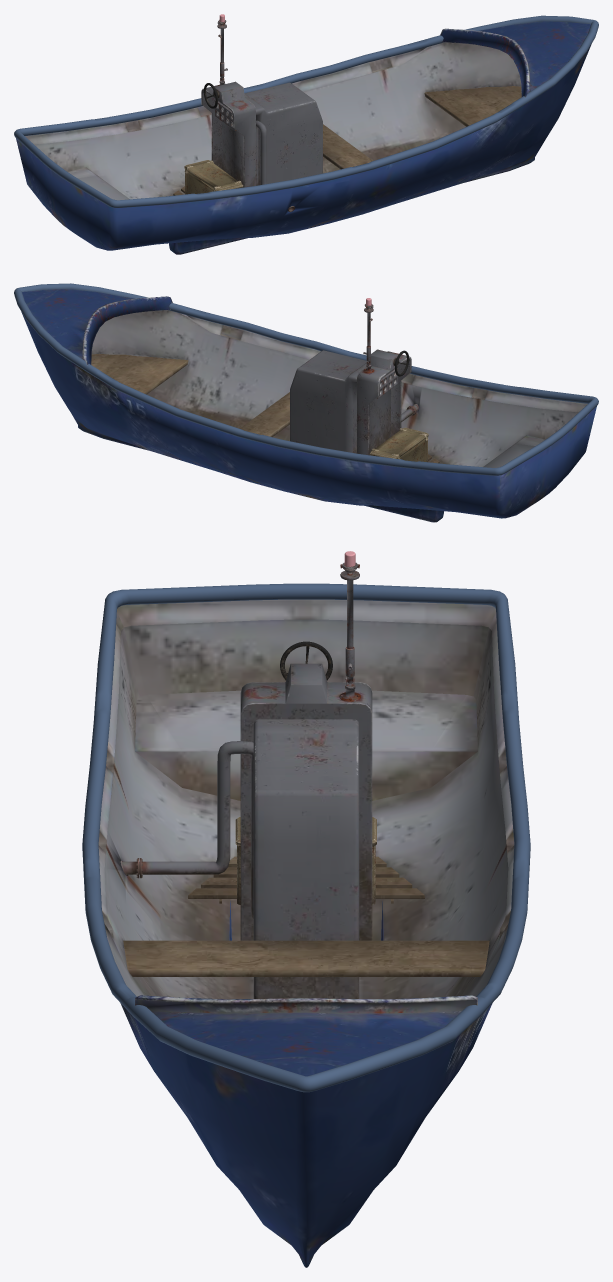
Rendered from HighPolyBoat.glb.
3 renders of one model, top to bottom at view 1: azimuth 30°, elevation 25°; view 2: azimuth 150°, elevation 25°; view 3: azimuth 270°, elevation 25°, orthographic. The views are drawn at different scales.
Parts seen in each view (by area): view 1: hull_fiberglass; view 2: hull_fiberglass; view 3: hull_fiberglass.
Part boxes in pixels (bbox=[...]): hull_fiberglass: bbox=[14, 14, 598, 254]; hull_fiberglass: bbox=[14, 283, 598, 522]; hull_fiberglass: bbox=[82, 551, 530, 1267].
Bounding box in the file's own units: 927 × 353 × 332.
10 materials, 8 textured.
